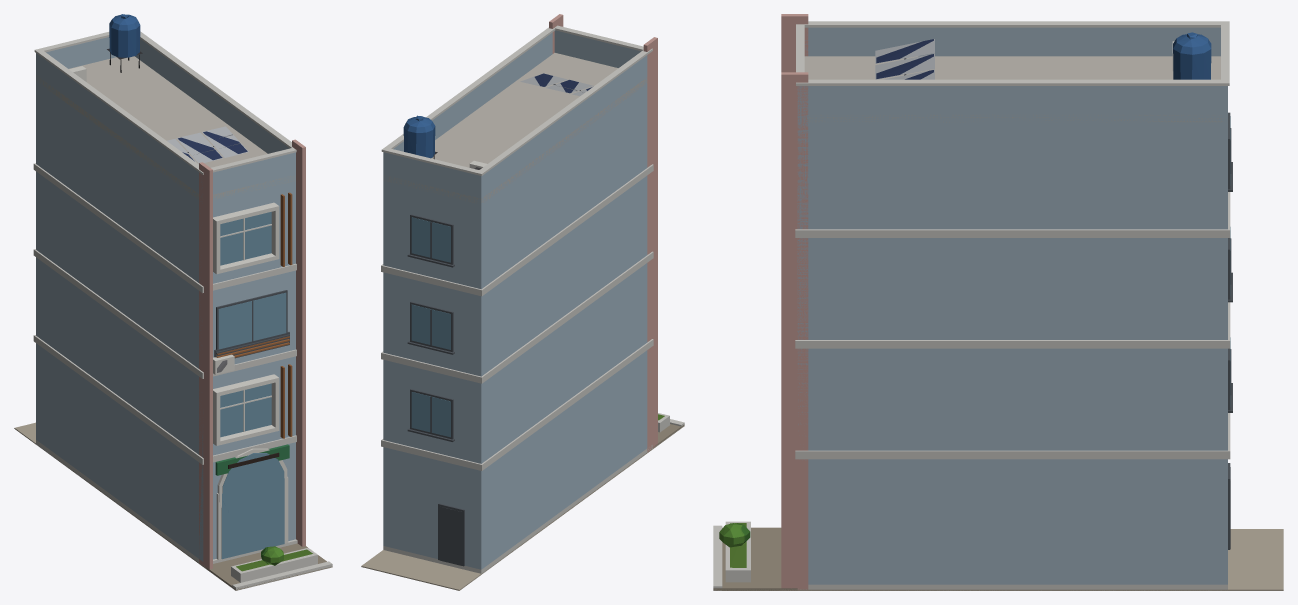
Rendered from bay2_mid.glb.
3 views of the same model, side by side, from view 1: azimuth 30°, elevation 25°; view 2: azimuth 150°, elevation 25°; view 3: azimuth 270°, elevation 25° (orthographic). The views are drawn at different scales.
Parts seen in each view (by area): view 1: body; view 2: body; view 3: body.
Boxes of the visible parts, x1,y1,x2,y2 form: body: (14, 14, 332, 590); body: (361, 14, 684, 590); body: (713, 14, 1283, 590).
Bounding box in the file's own units: 4.12 × 16.69 × 15.9.
